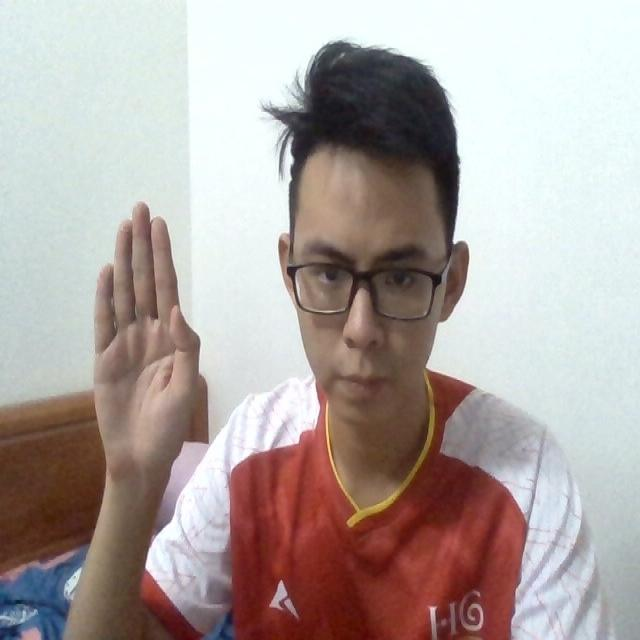B: (91, 201, 201, 462)
